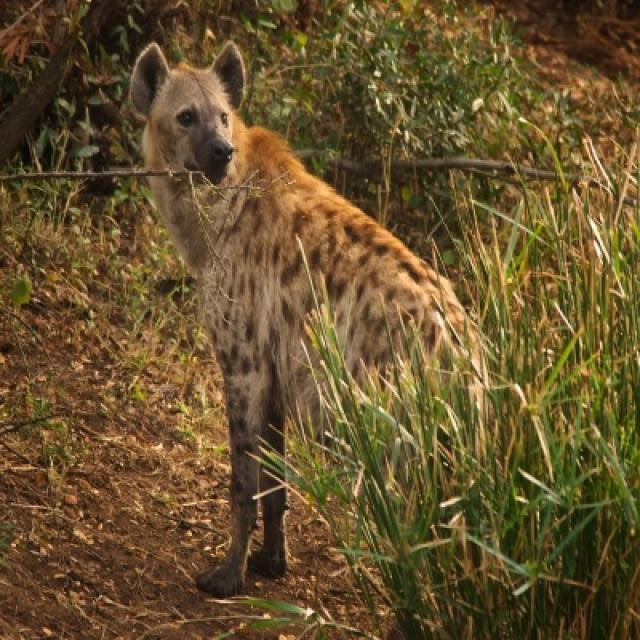hyena: (122, 43, 469, 600)
